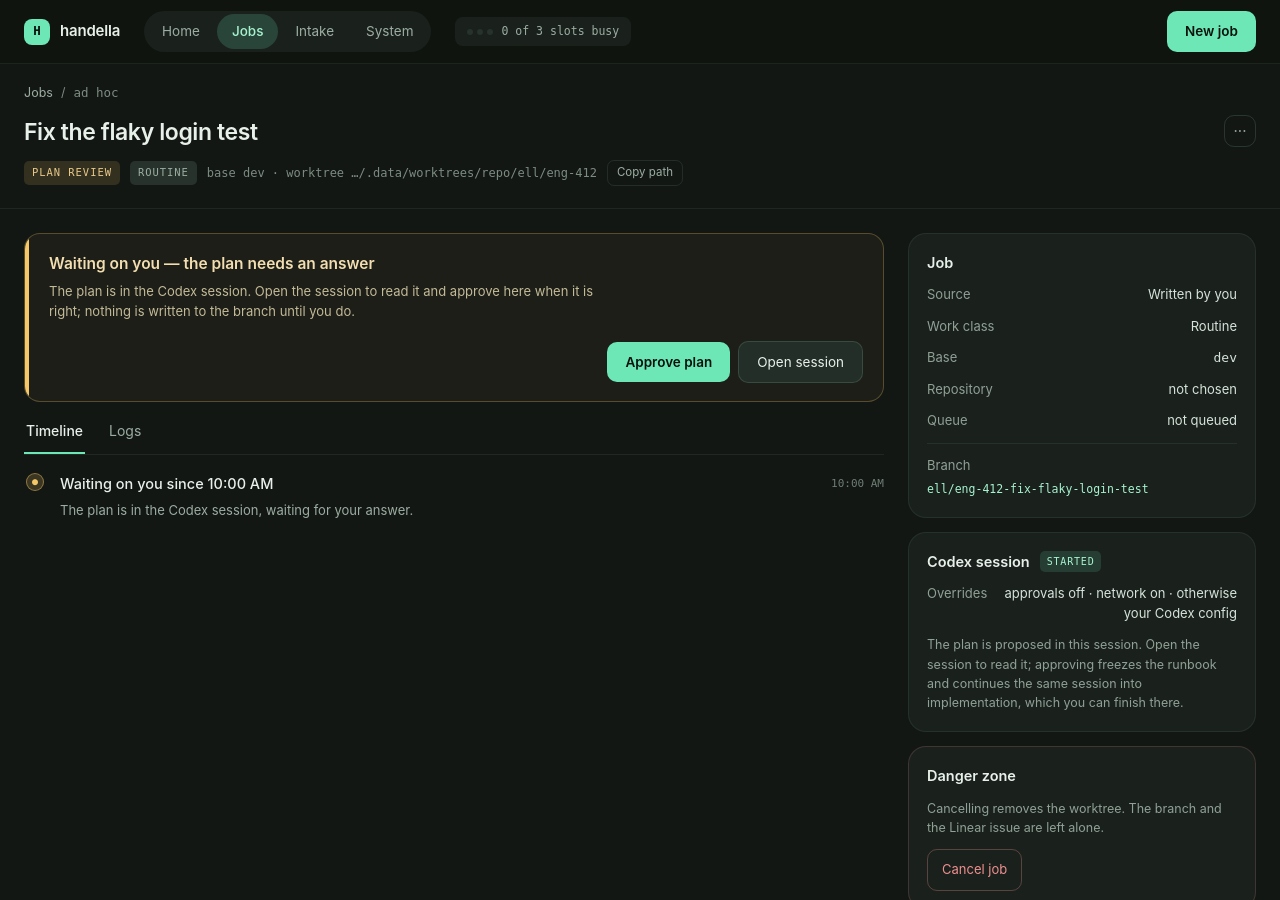
Test case: the job detail page › offers the approval as the banner’s primary and the session beside it
Expected: the button "Approve plan" is shown, top-left (607, 342), bottom-right (730, 382)
Expected: the button "Open session" is shown, top-left (738, 341), bottom-right (863, 383)
Click the button named "More actions for this job" at (1240,131), box top-left (1224, 115), bottom-right (1256, 147)
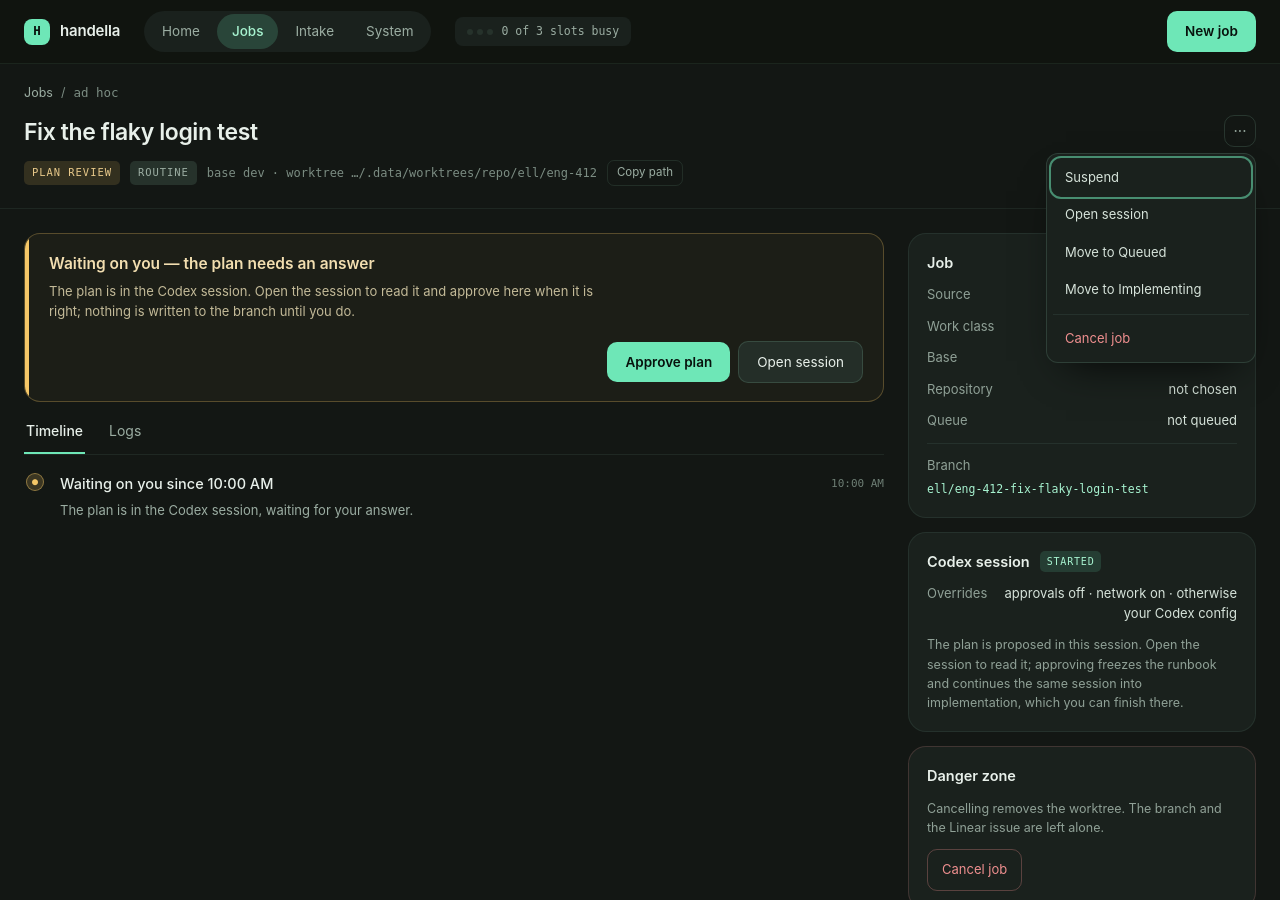
Expected: the menu item "Move to Queued" is shown, top-left (1053, 235), bottom-right (1249, 270)
